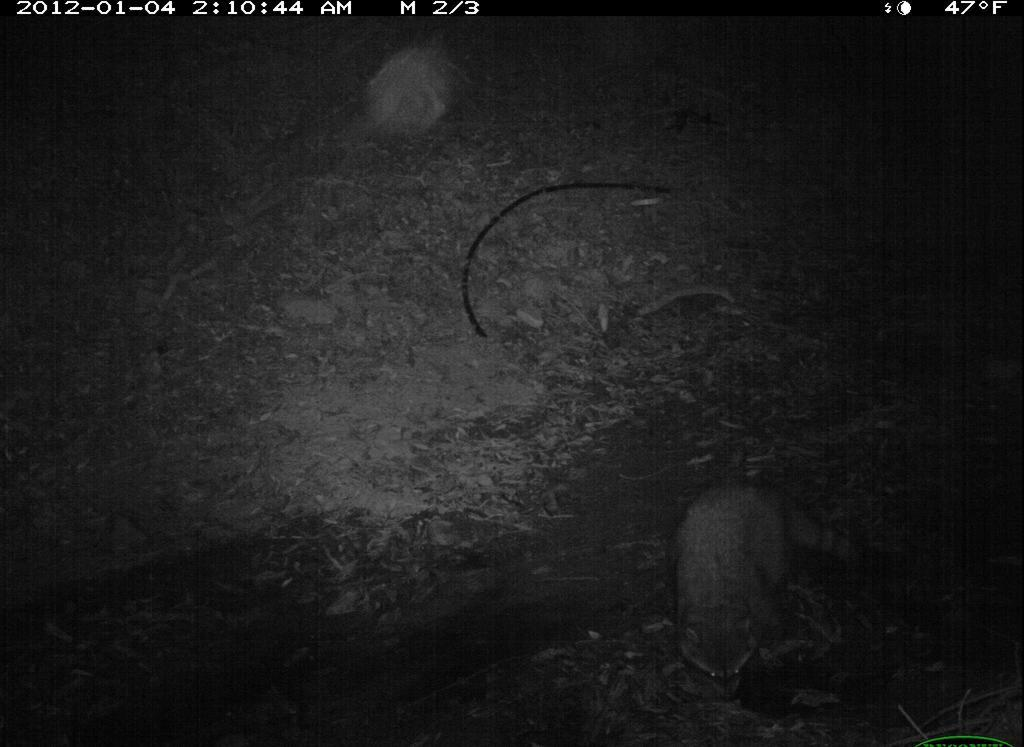raccoon: (667, 473, 868, 701)
